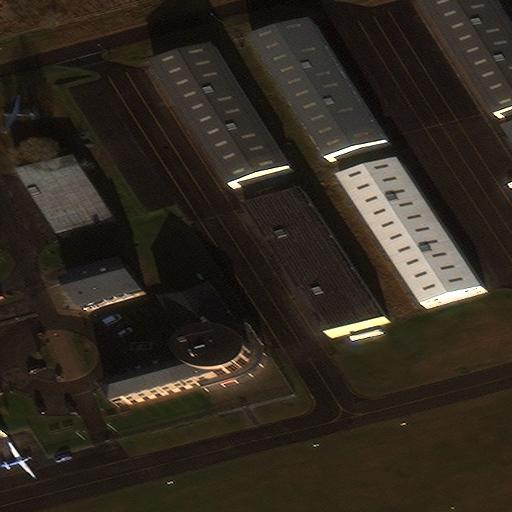Small Civil Transport: (0, 441, 37, 477), (1, 96, 33, 132)
